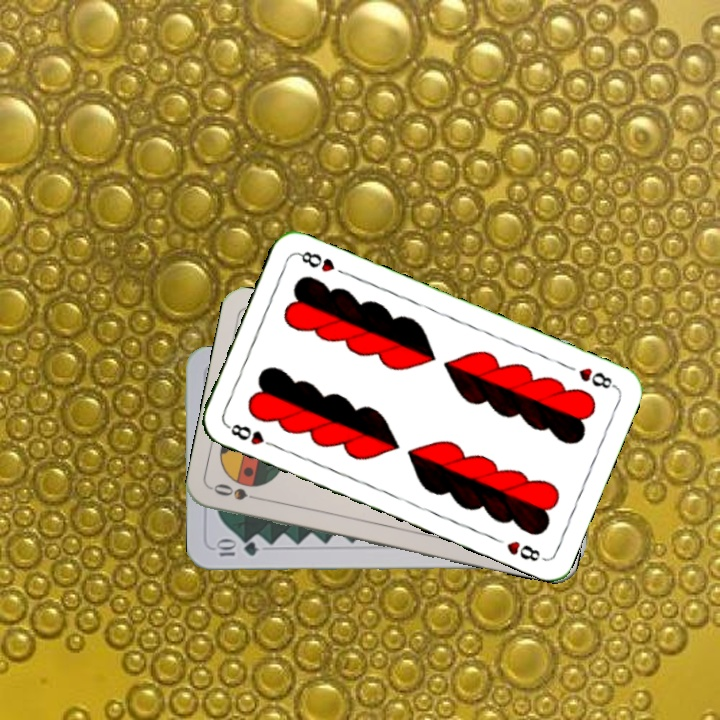G10: (212, 538, 261, 559)
H8: (223, 419, 279, 450), (574, 363, 619, 392)
SO: (209, 479, 268, 504)
